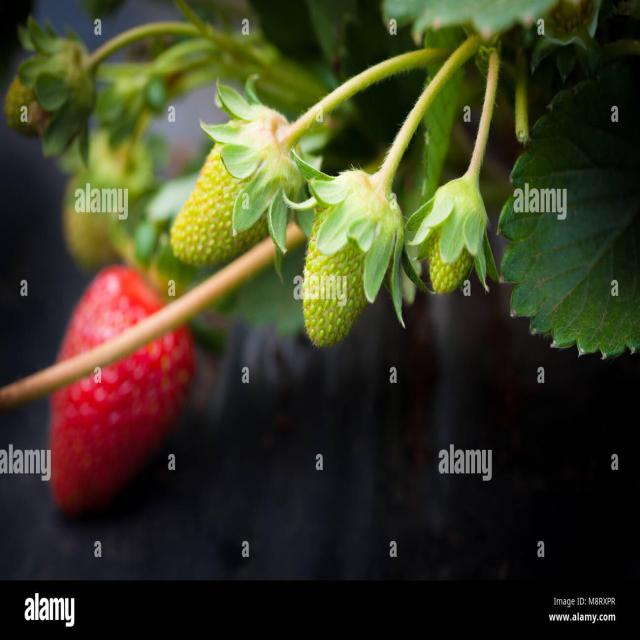immature: (170, 109, 298, 271), (303, 168, 402, 347), (3, 39, 92, 142), (429, 180, 486, 294)
mature: (51, 266, 197, 512)
